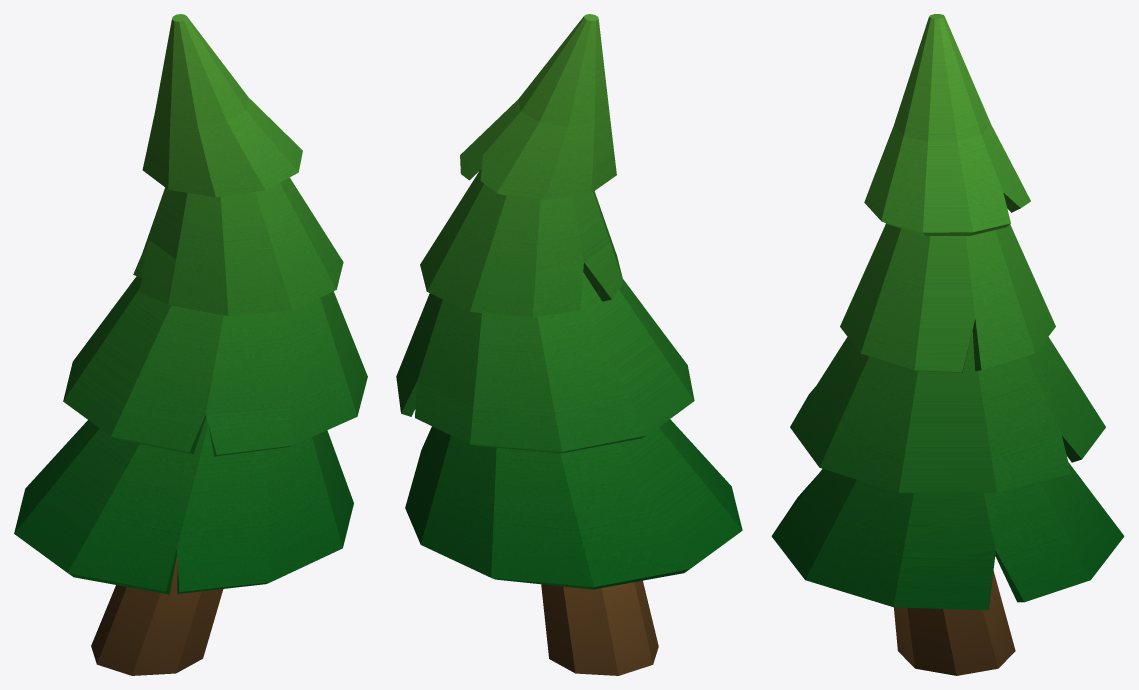
The model's file is pineTree.fbx.
3 renders of one model, left to right at view 1: azimuth 30°, elevation 25°; view 2: azimuth 150°, elevation 25°; view 3: azimuth 270°, elevation 25°, orthographic. The views are drawn at different scales.
Visible parts, largest first — view 1: Leafes, Stem; view 2: Leafes, Stem; view 3: Leafes, Stem.
Boxes of the visible parts, left/top/right/bottom form: Leafes: left=14, top=14, right=367, bottom=594; Stem: left=91, top=555, right=223, bottom=675; Leafes: left=396, top=14, right=742, bottom=589; Stem: left=541, top=580, right=658, bottom=675; Leafes: left=771, top=14, right=1124, bottom=610; Stem: left=894, top=571, right=1015, bottom=675.
Bounding box in the file's own units: 603 × 1212 × 600.
Materials: 2 (2 with a texture image).
